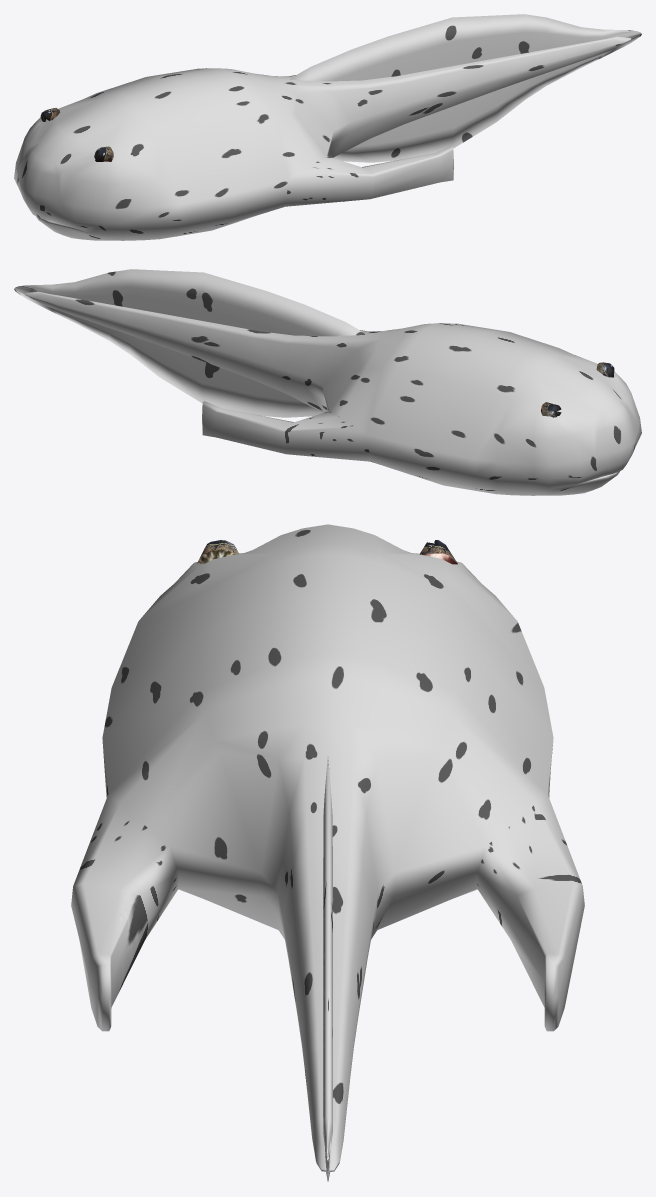
Rendered from tadpole.fbx.
The picture shows the model from 3 angles, top to bottom: view 1: azimuth 30°, elevation 25°; view 2: azimuth 150°, elevation 25°; view 3: azimuth 270°, elevation 25°; orthographic projection. The views are drawn at different scales.
Visible parts, largest first — view 1: tadpole; view 2: tadpole; view 3: tadpole.
Boxes of the visible parts, x1,y1,x2,y2 form: tadpole: (14,14,641,240); tadpole: (14,269,641,495); tadpole: (71,524,584,1181).
Bounding box in the file's own units: 343 × 76.73 × 123.
2 materials, 2 textured.
